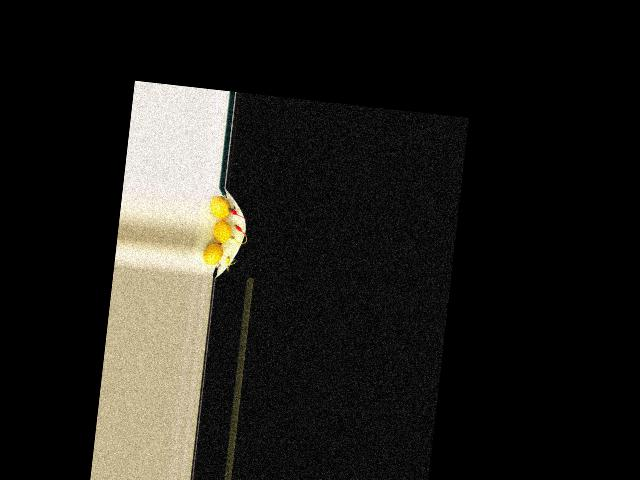lemon: (211, 195, 235, 220)
